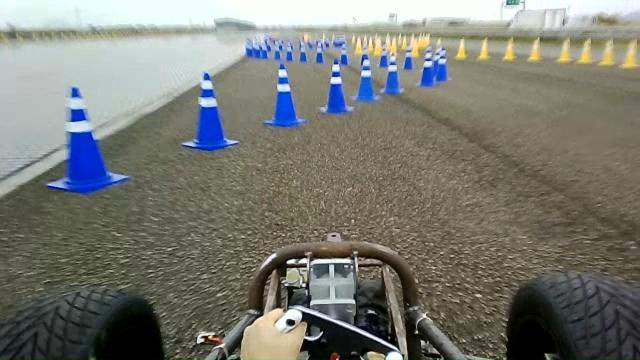blue cone: (45, 86, 128, 194), (181, 71, 239, 151), (264, 63, 306, 127), (318, 58, 354, 114), (352, 58, 379, 102), (380, 56, 404, 95), (417, 50, 436, 87), (435, 47, 450, 82), (403, 49, 414, 70)
